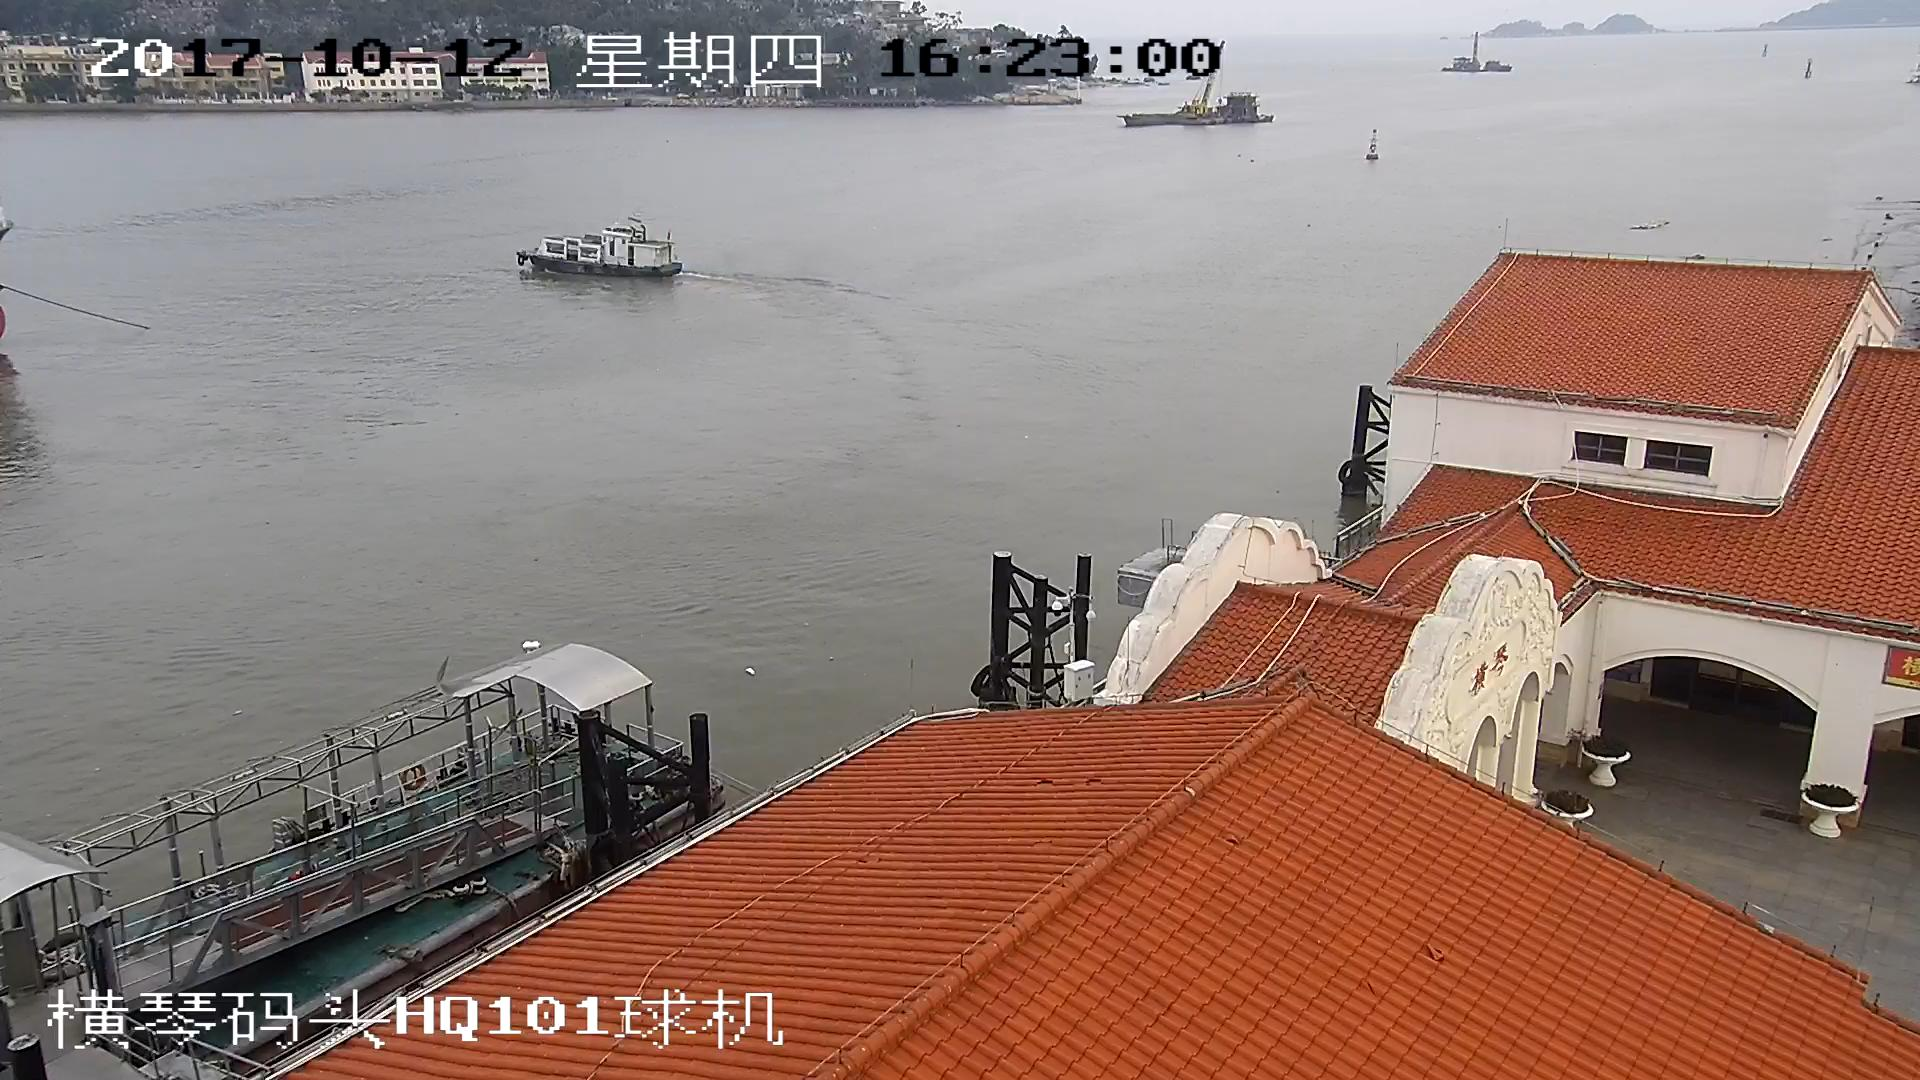fishing boat: (523, 219, 682, 283)
